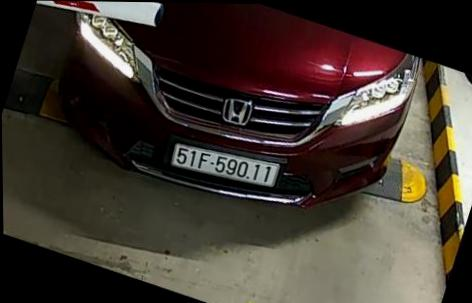License_Plate: (169, 138, 282, 195)
